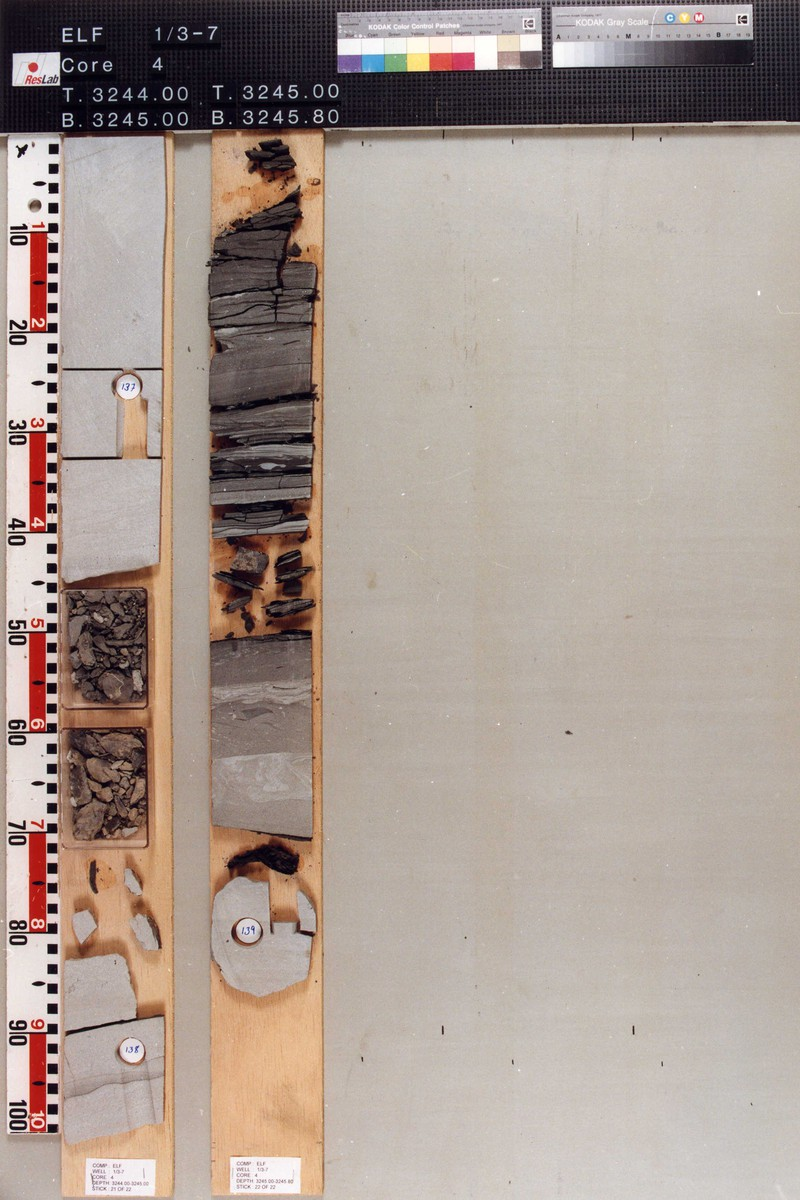core: (60, 132, 168, 1150), (212, 140, 321, 1001)
